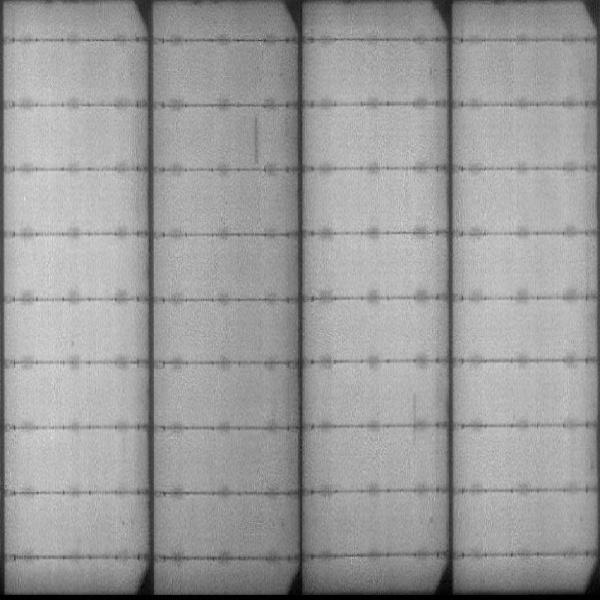scratch: (248, 116, 266, 166)
